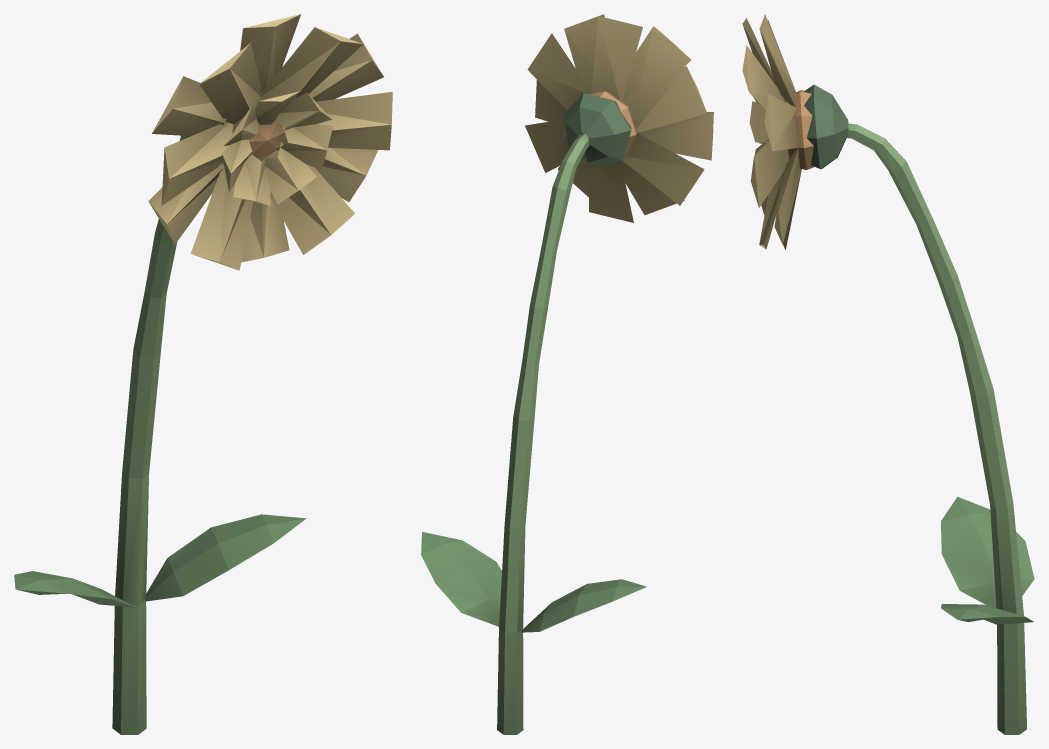
The model's file is flower.glb.
The picture shows the model from 3 angles, left to right: view 1: azimuth 30°, elevation 25°; view 2: azimuth 150°, elevation 25°; view 3: azimuth 270°, elevation 25°; orthographic projection. The views are drawn at different scales.
Parts seen in each view (by area): view 1: flower; view 2: flower; view 3: flower.
Boxes of the visible parts, x1,y1,x2,y2 form: flower: (14,14,392,734); flower: (421,14,713,734); flower: (742,14,1034,734).
Size of the model in its own units: 0.3597 by 0.9579 by 0.3607.
